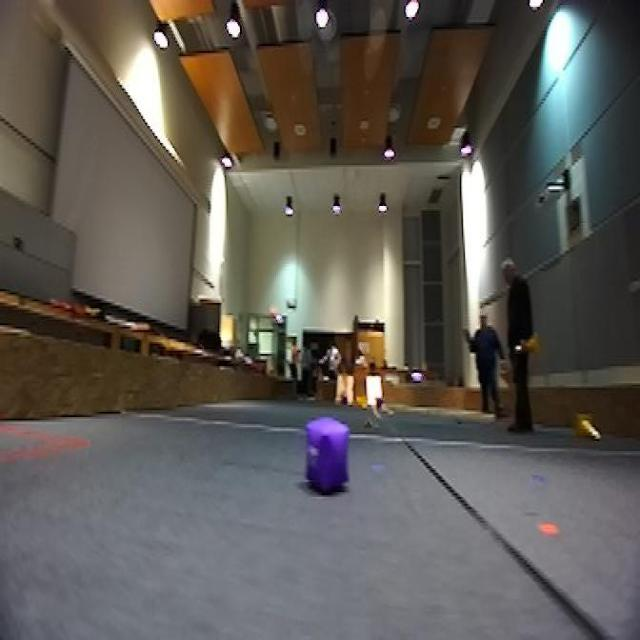frc_cone: (572, 412, 603, 441), (520, 334, 538, 354), (356, 392, 372, 408)
frc_cube: (305, 419, 351, 497), (375, 393, 390, 414), (339, 393, 351, 410)
